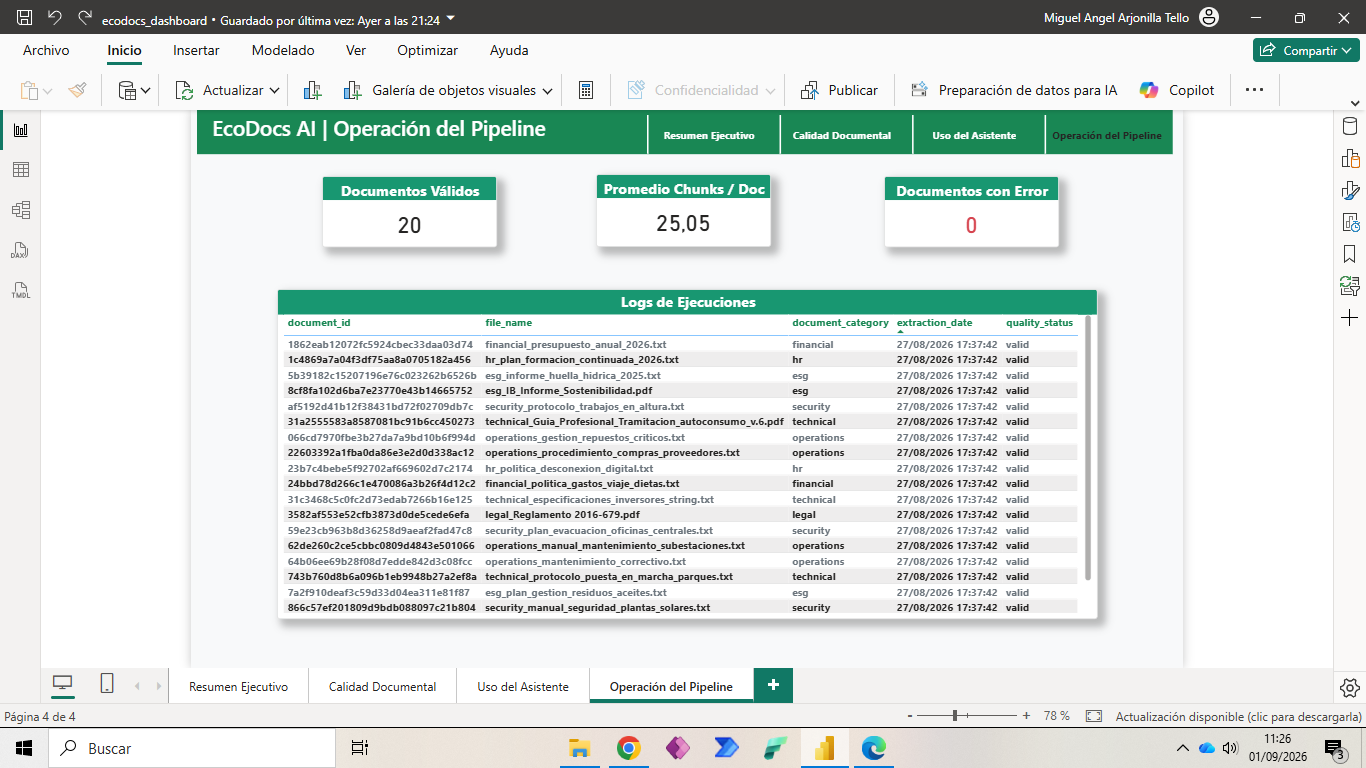

Layout of this report page (visuals, bound fields, positions):
{"tool":"powerbi","page":{"name":"Operación del Pipeline","canvas":[1280,720],"ordinal":3},"visuals":[{"type":"textbox","box":[7.7,0,1259.4,56.8],"z":0},{"type":"pageNavigator","box":[588.4,6.5,674.8,50.3],"z":1000},{"type":"card","title":"Documentos Válidos","fields":{"Values":["_Medidas.Total_Ejecuciones"]},"box":[169.2,84.6,225.6,92.1],"z":2000},{"type":"card","title":"Promedio Chunks / Doc","fields":{"Values":["_Medidas.Promedio_Chunks_Doc"]},"box":[522.5,82.7,225.6,94],"z":3000},{"type":"card","title":"Documentos con Error","fields":{"Values":["_Medidas.Docs_Invalidos"]},"box":[894.7,84.6,225.6,92.1],"z":4000},{"type":"tableEx","title":"Logs de Ejecuciones","fields":{"Values":["silver_documents.document_id","silver_documents.file_name","silver_documents.document_category","silver_documents.extraction_date","silver_documents.quality_status"]},"box":[111,231.1,1059.4,426.2],"z":5000}]}

Visuals, with their boxes on the page's 1280x720 design canvas (x1, y1, x2, y2). These are canvas units, not pixel positions in the 1366x768 screenshot, which may show the page scaled, cropped or inside an application window:
textbox: 8:0:1267:57
pageNavigator: 588:6:1263:57
"Documentos Válidos" card: 169:85:395:177
"Promedio Chunks / Doc" card: 522:83:748:177
"Documentos con Error" card: 895:85:1120:177
"Logs de Ejecuciones" tableEx: 111:231:1170:657
